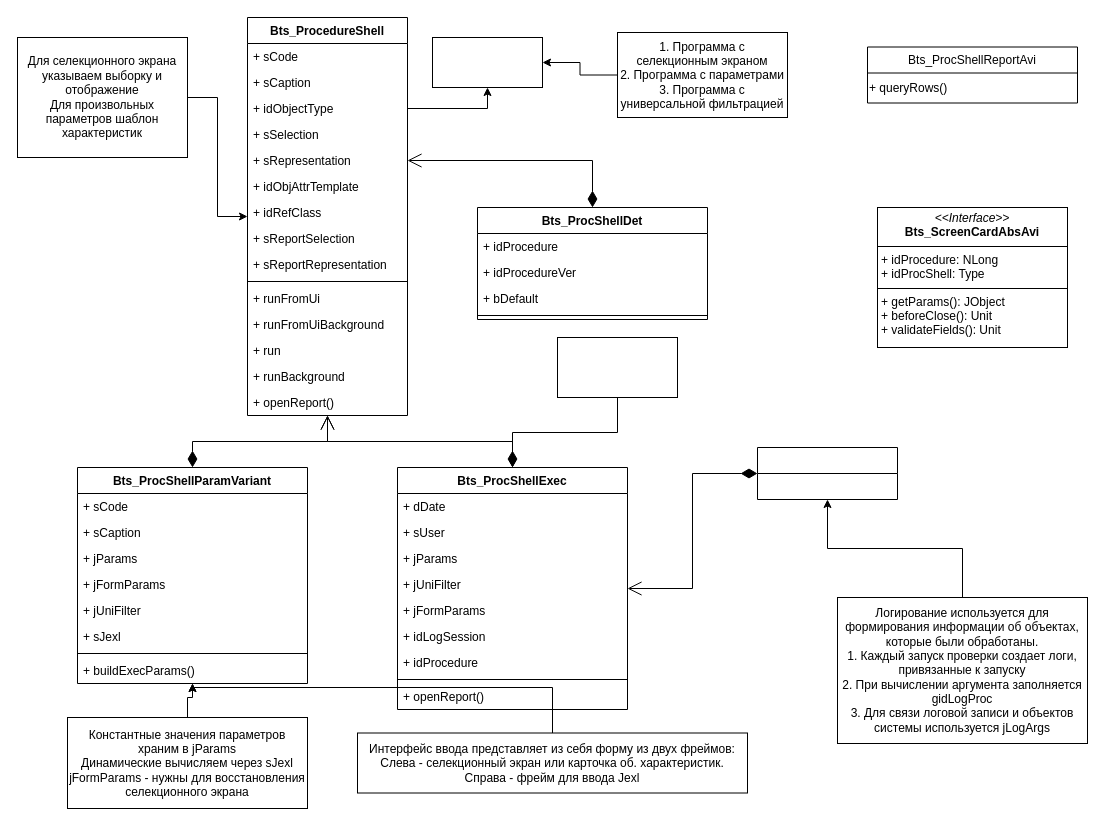
The diagram is 1105 pixels wide and 826 high, and some of its shapes have lost their labels. Here are the shapes that lost their labels. From the top down, the centre of each, then its label:
At pixel 487 62: "Btk_ObjectType".
At pixel 617 367: "1. Журнал 2. Должна быть очистка".
At pixel 827 473: "Btk_Log".
